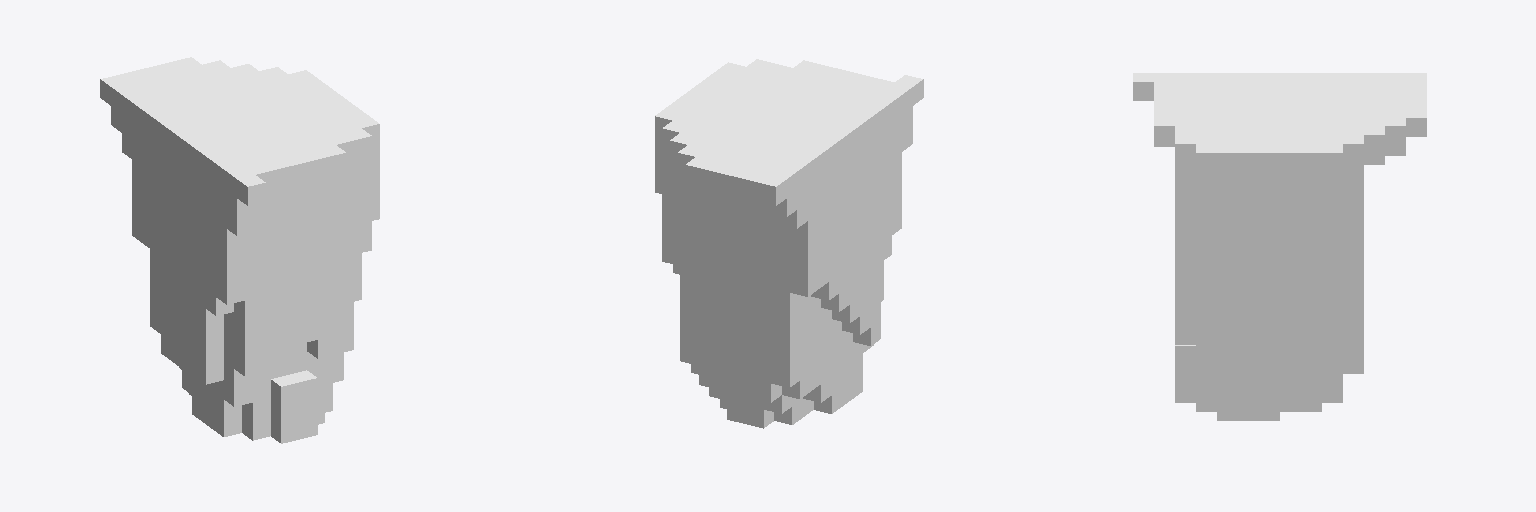
Rendered from Minotaur1-2.obj.
3 views of the same model, side by side, from view 1: azimuth 30°, elevation 25°; view 2: azimuth 150°, elevation 25°; view 3: azimuth 270°, elevation 25° (orthographic).
Parts seen in each view (by area): view 1: object 1; view 2: object 1; view 3: object 1.
Part boxes in pixels (x1,y1,x2,y2): object 1: (100,57,379,443); object 1: (655,59,923,428); object 1: (1133,73,1426,420).
Bounding box in the file's own units: 0.9 × 1.5 × 1.4.